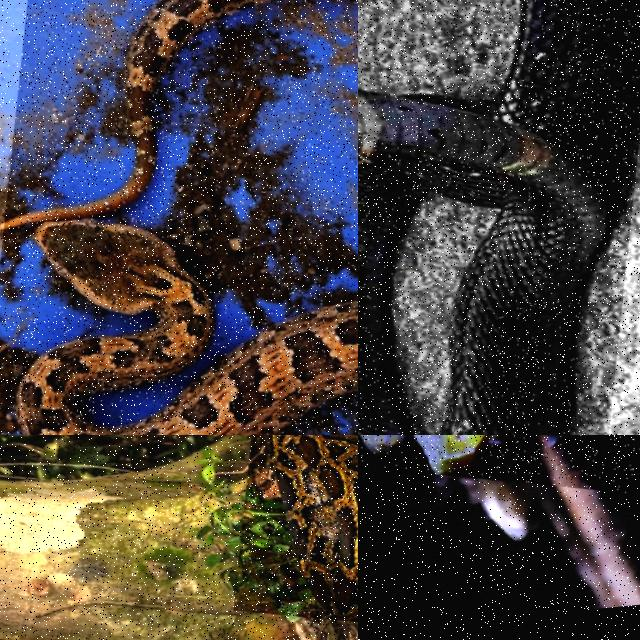Naja siamensis: (358, 0, 639, 434)
Ovophis monticola: (5, 0, 357, 434)
Python bivittatus: (266, 435, 357, 622)
Trimeresurus macrops: (366, 435, 530, 477)
snake: (5, 0, 357, 434), (358, 0, 639, 434), (266, 435, 357, 622), (366, 435, 530, 477)
